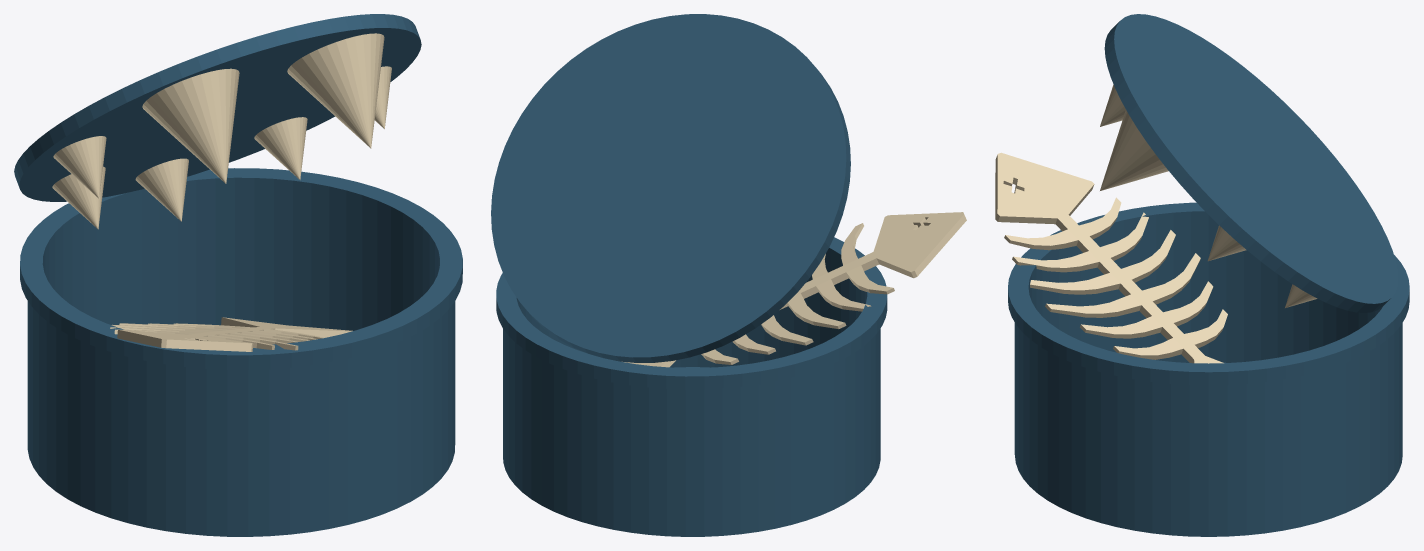
Rendered from FishVillanSemiFinal.fbx.
3 views of the same model, side by side, from view 1: azimuth 30°, elevation 25°; view 2: azimuth 150°, elevation 25°; view 3: azimuth 270°, elevation 25° (orthographic). The views are drawn at different scales.
Parts seen in each view (by area): view 1: Tin, Lid, Teeth, Fish.001; view 2: Lid, Tin, Fish.001; view 3: Tin, Lid, Fish.001, Teeth.
Boxes of the visible parts, left/top/right/bottom form: Tin: left=20, top=168, right=462, bottom=536; Lid: left=14, top=14, right=421, bottom=201; Teeth: left=52, top=33, right=391, bottom=229; Fish.001: left=110, top=317, right=352, bottom=351; Lid: left=491, top=14, right=850, bottom=362; Tin: left=496, top=237, right=887, bottom=536; Fish.001: left=622, top=212, right=966, bottom=367; Tin: left=1008, top=202, right=1409, bottom=536; Lid: left=1104, top=14, right=1398, bottom=312; Fish.001: left=995, top=152, right=1227, bottom=363; Teeth: left=1100, top=84, right=1317, bottom=307.
Size of the model in its own units: 863 by 975 by 881.
